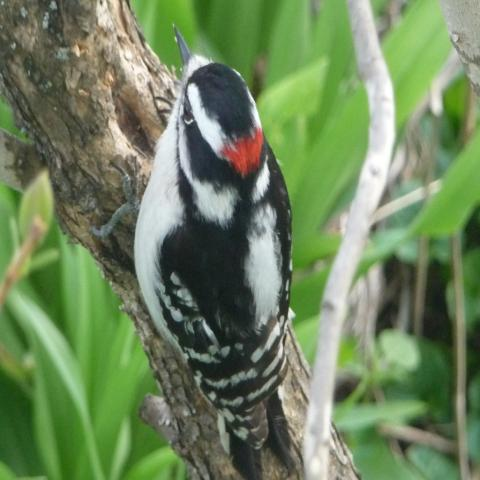bird: (130, 22, 302, 476)
